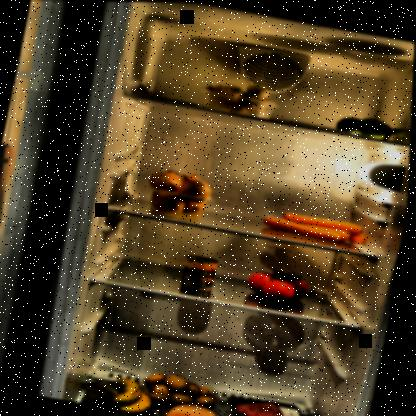banana: (77, 367, 163, 414)
carrot: (257, 203, 378, 248)
chocolate: (148, 94, 201, 108)
corn: (183, 252, 222, 287)
ground_beef: (224, 389, 334, 415)
lime: (335, 110, 399, 141)
mushrooms: (197, 73, 282, 119)
onion: (141, 164, 214, 223)
potato: (139, 368, 231, 415)
tomato: (243, 261, 315, 306)
